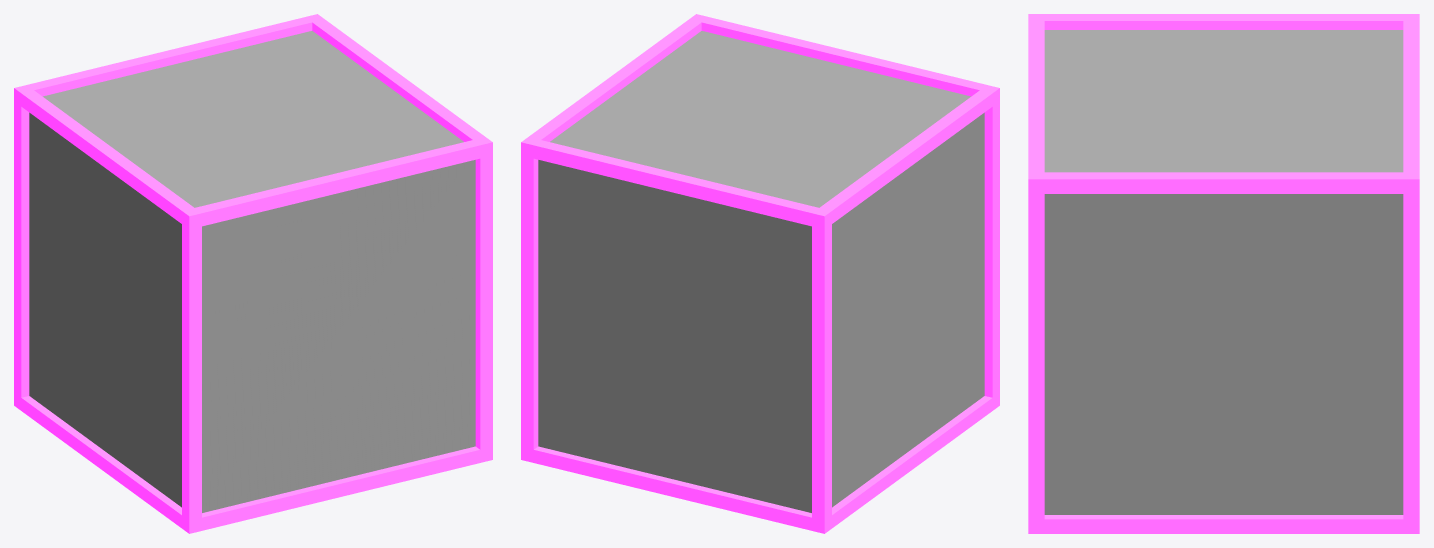
The model's file is SFI0410002.fbx.
3 renders of one model, left to right at view 1: azimuth 30°, elevation 25°; view 2: azimuth 150°, elevation 25°; view 3: azimuth 270°, elevation 25°, orthographic. The views are drawn at different scales.
Visible parts, largest first — view 1: smSFI0410002; view 2: smSFI0410002; view 3: smSFI0410002.
Part boxes in pixels (box(x1,y1,x2,y2)): smSFI0410002: box(14, 14, 492, 533); smSFI0410002: box(521, 14, 999, 533); smSFI0410002: box(1028, 14, 1419, 533).
Size of the model in its own units: 100 by 100 by 100.
